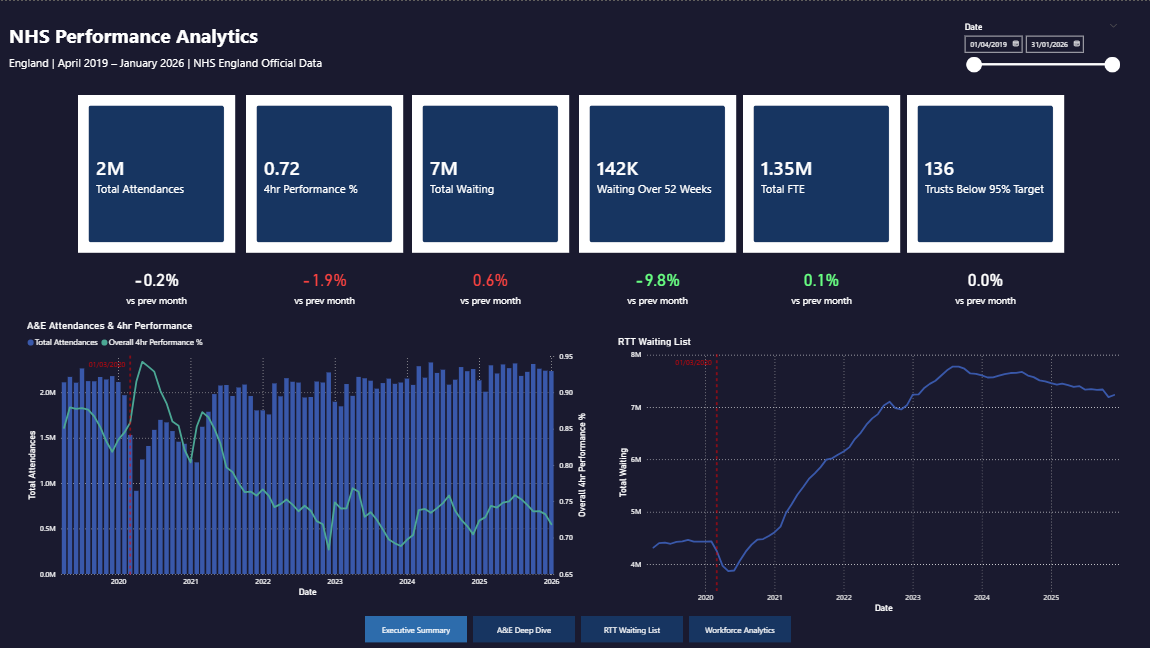

This screenshot's page, from the dashboard's own definition file:
{"tool":"powerbi","page":{"name":"Executive Summary","canvas":[1920,1080],"ordinal":0},"visuals":[{"type":"textbox","box":[10,30,798.3,280],"z":0},{"type":"textbox","box":[10,85,950,280],"z":1000},{"type":"cardVisual","fields":{"Data":["_Measures.KPI Trusts Below 95% Target"]},"box":[1511.4,157.4,261.7,263.3],"z":2000},{"type":"cardVisual","fields":{"Data":["_Measures.KPI Waiting Over 52 Weeks"]},"box":[964.8,157.4,261.7,263.3],"z":3000},{"type":"cardVisual","fields":{"Data":["_Measures.KPI Total FTE"]},"box":[1238.1,157.4,261.7,263.3],"z":4000},{"type":"cardVisual","fields":{"Data":["_Measures.KPI 4hr Performance %"]},"box":[409.8,157.4,261.7,263.3],"z":5000},{"type":"cardVisual","fields":{"Data":["_Measures.KPI Total Attendances"]},"box":[129.8,157.4,261.7,263.3],"z":6000},{"type":"cardVisual","fields":{"Data":["_Measures.KPI Total Waiting"]},"box":[686.4,157.4,261.7,263.3],"z":7000},{"type":"lineClusteredColumnComboChart","title":"A&E Attendances & 4hr Performance","fields":{"Y":["_Measures.Total Attendances"],"Y2":["_Measures.Overall 4hr Performance %"],"Category":["dim_date.Date"]},"box":[40,530,941.7,468.3],"z":8000},{"type":"lineChart","title":"RTT Waiting List","fields":{"Y":["_Measures.Total Waiting"],"Category":["rtt_clean.period.Variation.Date Hierarchy.Year"]},"box":[1025.7,557.1,850,468.6],"z":9000},{"type":"slicer","fields":{"Values":["dim_date.Date"]},"box":[1595,30,280,280],"z":10000},{"type":"card","title":"asdasd","fields":{"Values":["_Measures.KPI Attendances MoM %"]},"box":[130,431.4,261.4,84.3],"z":11000},{"type":"card","title":"asdasd","fields":{"Values":["_Measures.KPI 4hr MoM %"]},"box":[410,431.4,261.4,84.3],"z":12000},{"type":"card","title":"asdasd","fields":{"Values":["_Measures.KPI Waiting MoM %"]},"box":[687.1,431.4,261.4,84.3],"z":13000},{"type":"card","title":"asdasd","fields":{"Values":["_Measures.KPI 52wk MoM %"]},"box":[964.3,431.4,261.4,84.3],"z":14000},{"type":"card","title":"asdasd","fields":{"Values":["_Measures.KPI FTE MoM %"]},"box":[1238.6,431.4,261.4,84.3],"z":15000},{"type":"card","title":"asdasd","fields":{"Values":["_Measures.KPI Trusts Below 95% MoM %"]},"box":[1511.4,431.4,261.4,84.3],"z":16000},{"type":"pageNavigator","box":[608.6,1025.7,710,44.3],"z":17000}]}

Visuals, with their boxes in screenshot pixels (x1, y1, x2, y2), scaled from the page's 1920x1080 canvas onto the 1150x648 screenshot:
textbox: locate(6, 18, 484, 186)
textbox: locate(6, 51, 575, 219)
cardVisual - _Measures.KPI Trusts Below 95% Target: locate(905, 94, 1062, 252)
cardVisual - _Measures.KPI Waiting Over 52 Weeks: locate(578, 94, 735, 252)
cardVisual - _Measures.KPI Total FTE: locate(742, 94, 898, 252)
cardVisual - _Measures.KPI 4hr Performance %: locate(245, 94, 402, 252)
cardVisual - _Measures.KPI Total Attendances: locate(78, 94, 234, 252)
cardVisual - _Measures.KPI Total Waiting: locate(411, 94, 568, 252)
"A&E Attendances & 4hr Performance" lineClusteredColumnComboChart: locate(24, 318, 588, 599)
"RTT Waiting List" lineChart: locate(614, 334, 1123, 615)
slicer - dim_date.Date: locate(955, 18, 1123, 186)
"asdasd" card: locate(78, 259, 234, 309)
"asdasd" card: locate(246, 259, 402, 309)
"asdasd" card: locate(412, 259, 568, 309)
"asdasd" card: locate(578, 259, 734, 309)
"asdasd" card: locate(742, 259, 898, 309)
"asdasd" card: locate(905, 259, 1062, 309)
pageNavigator: locate(365, 615, 790, 642)
